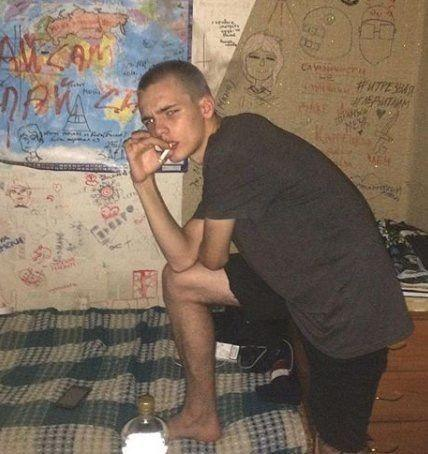cigarette: (158, 149, 171, 163)
